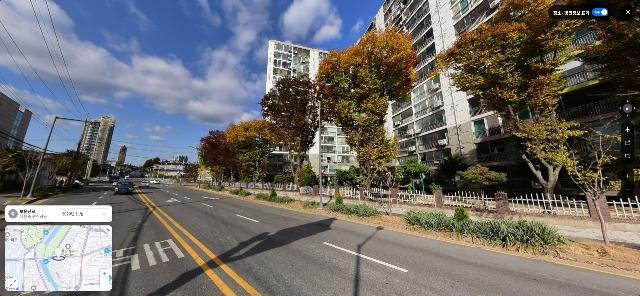other: (430, 0, 640, 202), (312, 23, 419, 193), (519, 118, 632, 246), (258, 72, 328, 191), (223, 118, 284, 191)
